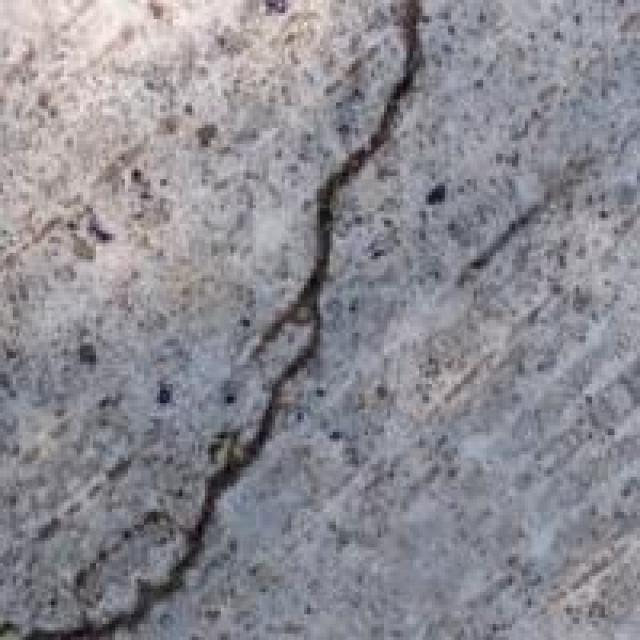Crack: (84, 3, 438, 637)
